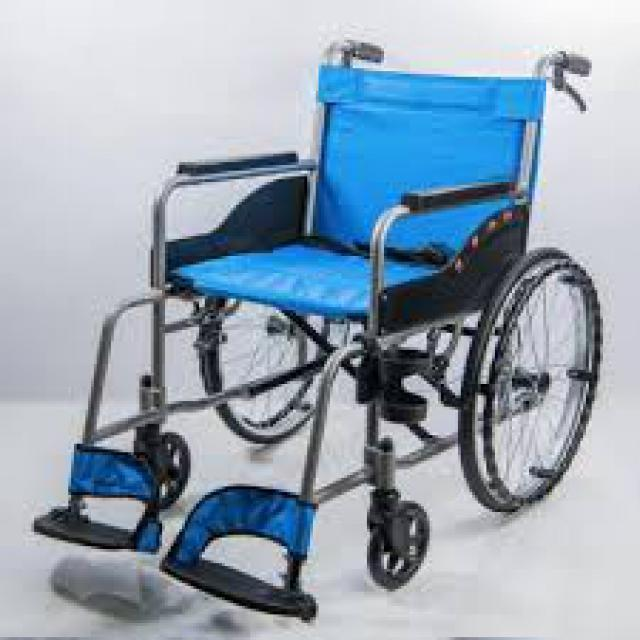wheelchair: (25, 28, 626, 638)
